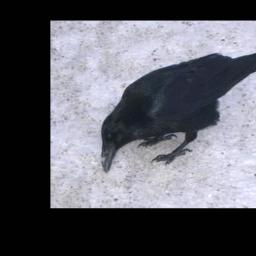Crow: (102, 48, 256, 172)
